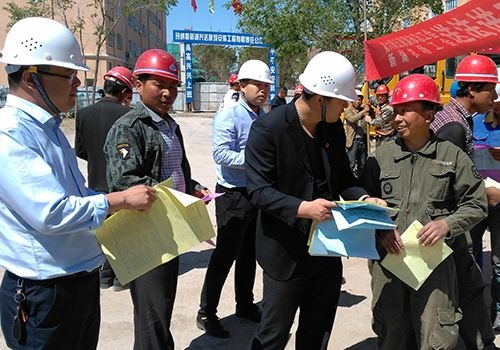none: (276, 85, 288, 99)
red: (388, 72, 440, 139), (133, 47, 179, 115), (454, 52, 497, 116), (102, 64, 133, 103), (375, 82, 390, 104)
white: (3, 14, 84, 117), (295, 47, 357, 124), (237, 58, 272, 108), (353, 89, 364, 108)
